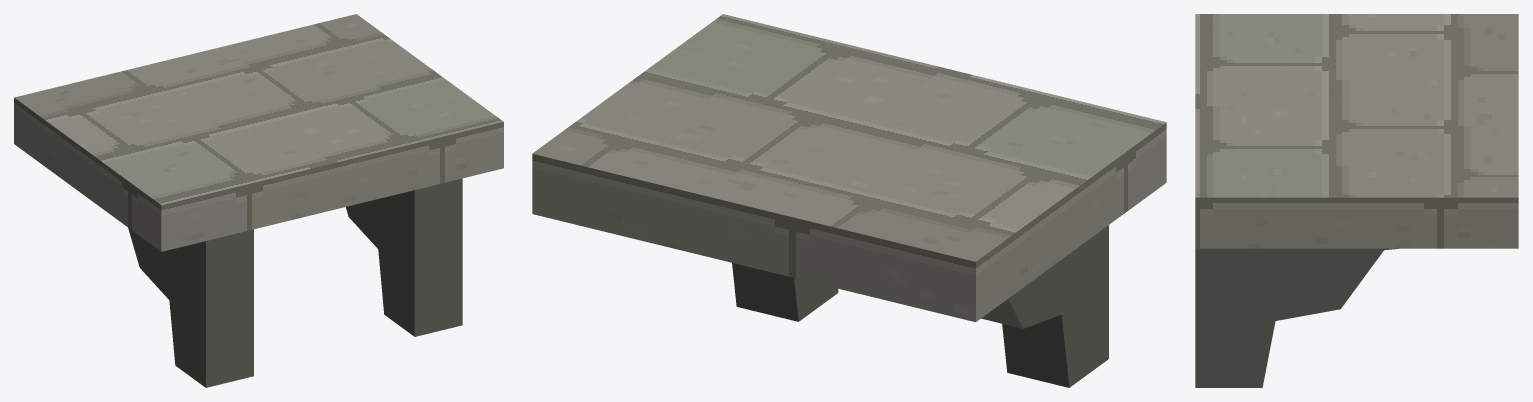
The model's file is corbel_walk.glb.
3 views of the same model, side by side, from view 1: azimuth 30°, elevation 25°; view 2: azimuth 150°, elevation 25°; view 3: azimuth 270°, elevation 25° (orthographic). The views are drawn at different scales.
Parts seen in each view (by area): view 1: Corbel walk; view 2: Corbel walk; view 3: Corbel walk.
Boxes of the visible parts, box(x1,y1,x2,y2) form: Corbel walk: box(14, 14, 503, 387); Corbel walk: box(532, 14, 1166, 387); Corbel walk: box(1195, 14, 1518, 387).
Size of the model in its own units: 1 by 0.54 by 0.745.
Materials: 2 (1 with a texture image).
